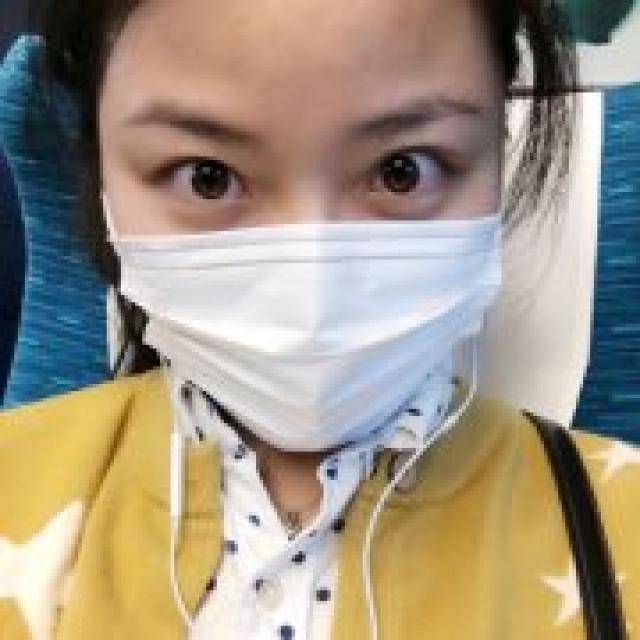mask: (105, 4, 507, 452)
